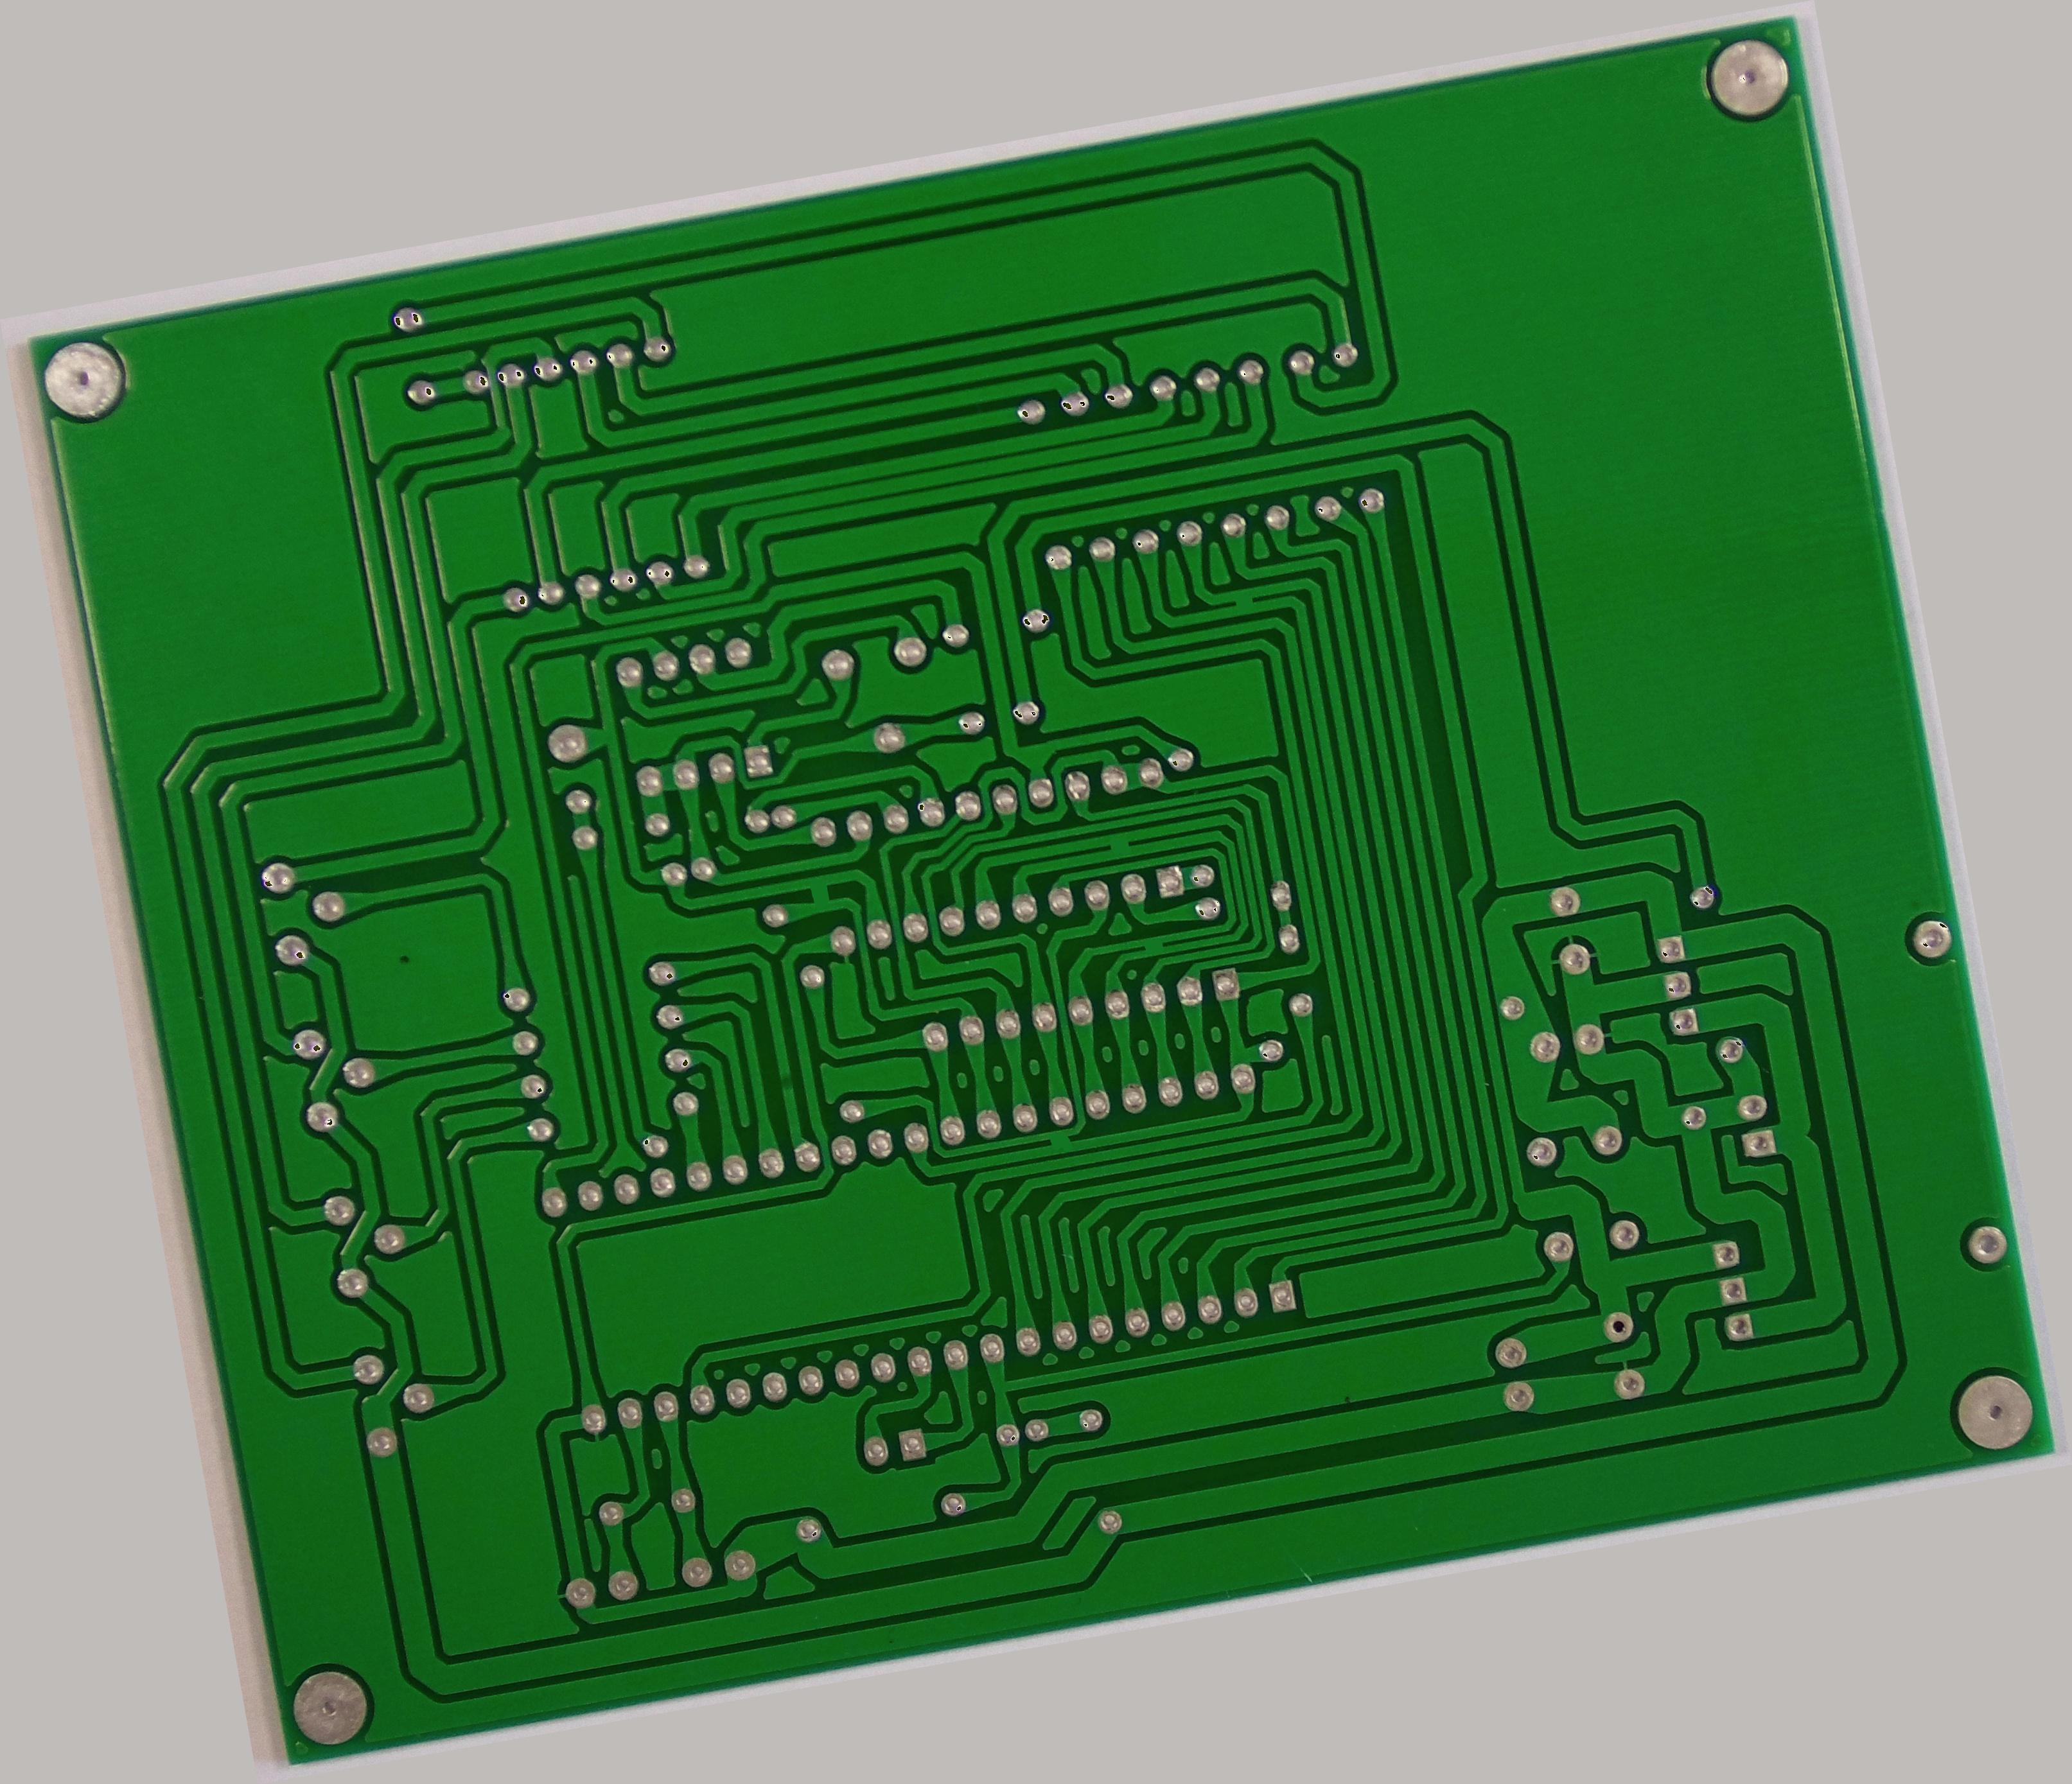short: (795, 865, 846, 919), (1128, 925, 1177, 967), (1219, 579, 1267, 622), (1038, 1118, 1082, 1159), (1094, 826, 1140, 863)
